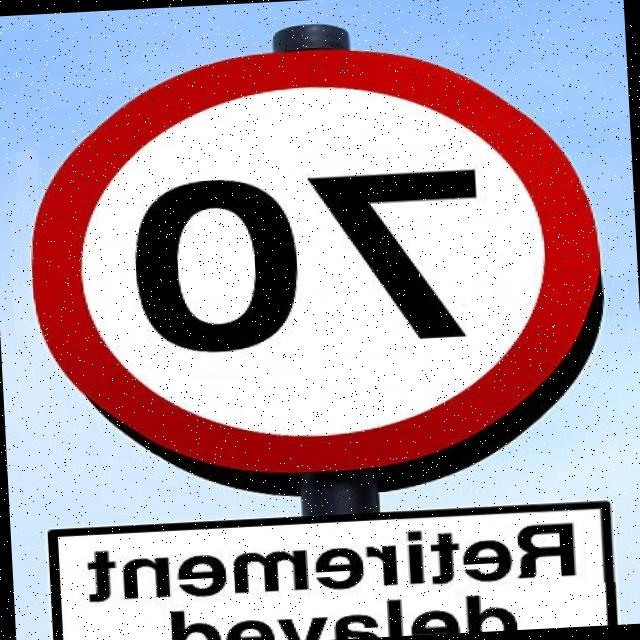speed_limit_70: (11, 24, 614, 482)
